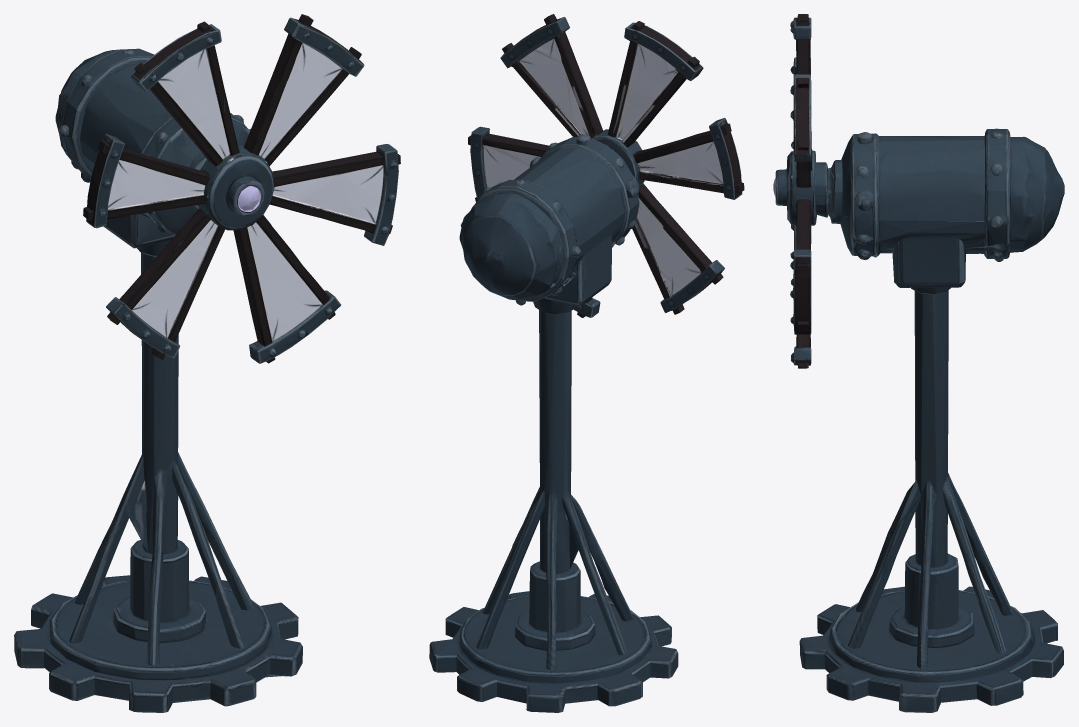
File: skyguard.glb
The picture shows the model from 3 angles, left to right: view 1: azimuth 30°, elevation 25°; view 2: azimuth 150°, elevation 25°; view 3: azimuth 270°, elevation 25°; orthographic projection. The views are drawn at different scales.
Bounding box in the file's own units: 0.9055 × 1.9 × 0.8007.
Materials: 1 (1 with a texture image).
